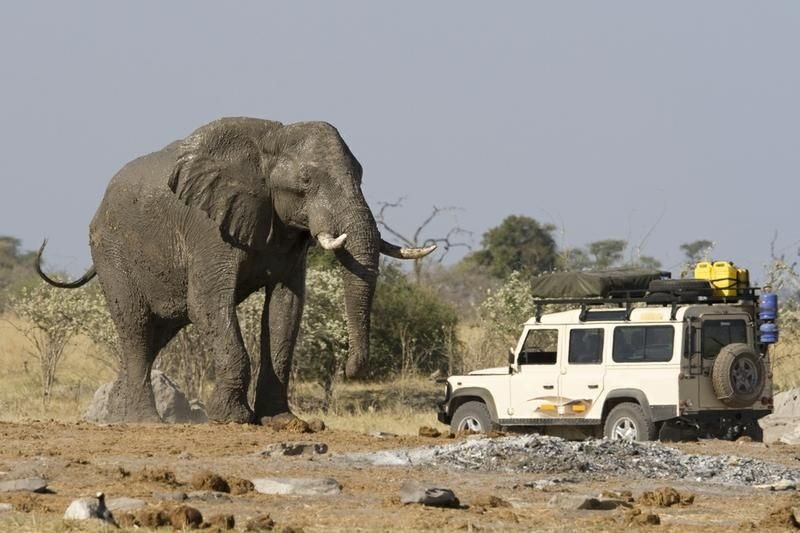elephant: (78, 113, 437, 427)
